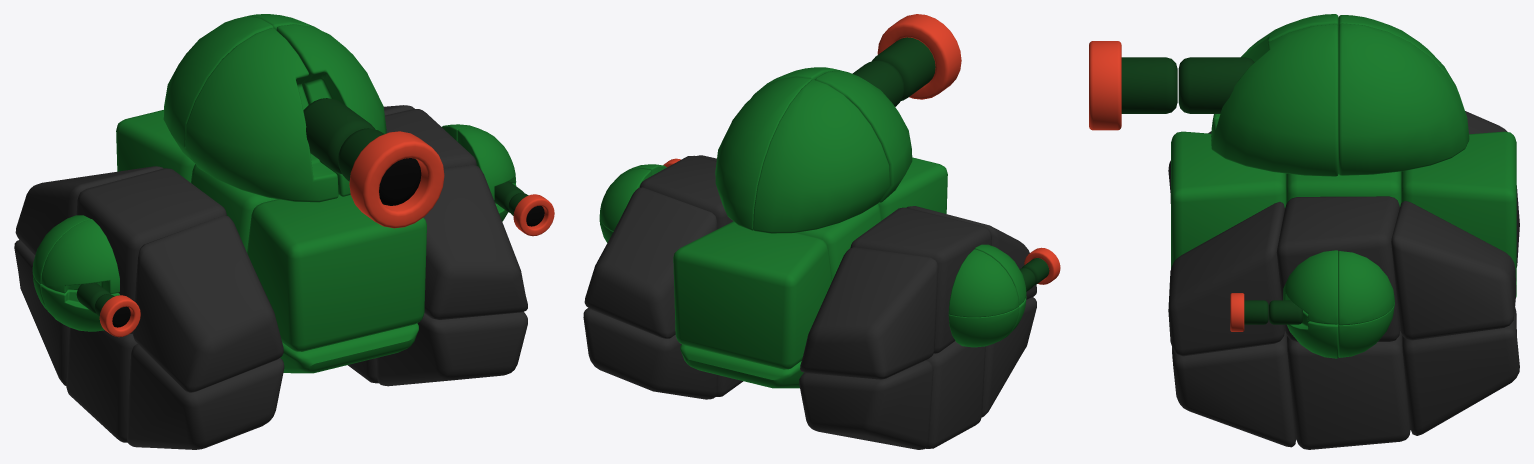
File: Tank.fbx
The picture shows the model from 3 angles, left to right: view 1: azimuth 30°, elevation 25°; view 2: azimuth 150°, elevation 25°; view 3: azimuth 270°, elevation 25°; orthographic projection. The views are drawn at different scales.
Parts seen in each view (by area): view 1: Cube.021, Cube.011, Sphere.006, Cube.022, Cube.008, Cube.005, Cube.019, Cylinder.002, Cube.002, Sphere.001, Sphere.002, Sphere.003 (+14 smaller); view 2: Cube.012, Sphere.002, Cube.007, Cube.013, Cube.006, Cube.010, Cube.005, Sphere.005, Cube.002, Sphere.006, Sphere.010, Cylinder.002 (+13 smaller); view 3: Sphere.005, Sphere.001, Cube.013, Cube.022, Cube.001, Cube.019, Cube.012, Cube.021, Cube.010, Cube.004, Sphere.012, Cylinder (+12 smaller).
Boxes of the visible parts, bbox=[...] form: Cube.021: bbox=[247, 195, 426, 351]; Cube.011: bbox=[132, 215, 283, 392]; Sphere.006: bbox=[185, 28, 338, 202]; Cube.022: bbox=[423, 164, 527, 319]; Cube.008: bbox=[127, 344, 284, 449]; Cube.005: bbox=[76, 168, 226, 333]; Cube.019: bbox=[376, 311, 527, 386]; Cylinder.002: bbox=[349, 131, 444, 228]; Cube.002: bbox=[66, 327, 137, 442]; Sphere.001: bbox=[276, 24, 386, 196]; Sphere.002: bbox=[163, 16, 273, 162]; Sphere.003: bbox=[41, 219, 119, 293]; Cube.012: bbox=[673, 221, 831, 369]; Sphere.002: bbox=[753, 79, 890, 233]; Cube.007: bbox=[800, 247, 938, 379]; Cube.013: bbox=[584, 187, 717, 338]; Cube.006: bbox=[799, 360, 933, 449]; Cube.010: bbox=[583, 308, 717, 399]; Cube.005: bbox=[850, 207, 991, 353]; Sphere.005: bbox=[715, 77, 811, 230]; Cube.002: bbox=[926, 341, 985, 448]; Sphere.006: bbox=[815, 70, 912, 202]; Sphere.010: bbox=[948, 249, 1018, 317]; Cylinder.002: bbox=[877, 14, 961, 99]; Sphere.005: bbox=[1338, 23, 1469, 175]; Sphere.001: bbox=[1211, 24, 1338, 176]; Cube.013: bbox=[1391, 201, 1516, 340]; Cube.022: bbox=[1168, 202, 1284, 356]; Cube.001: bbox=[1287, 331, 1410, 449]; Cube.019: bbox=[1172, 331, 1296, 447]; Cube.012: bbox=[1401, 131, 1516, 281]; Cube.021: bbox=[1171, 131, 1286, 268]; Cube.010: bbox=[1402, 307, 1519, 435]; Cube.004: bbox=[1276, 196, 1400, 341]; Sphere.012: bbox=[1338, 251, 1394, 325]; Cylinder: bbox=[1178, 57, 1254, 113].
Bounding box in the file's own units: 450 × 335 × 374.
